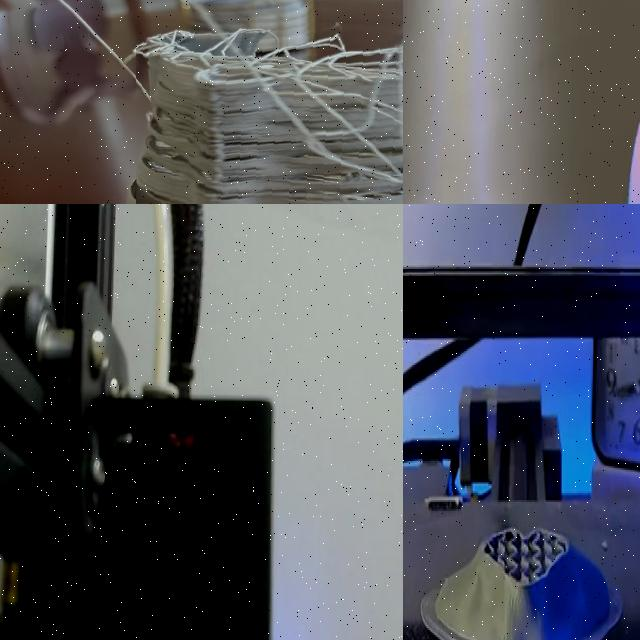spaghetti: (136, 31, 403, 204)
